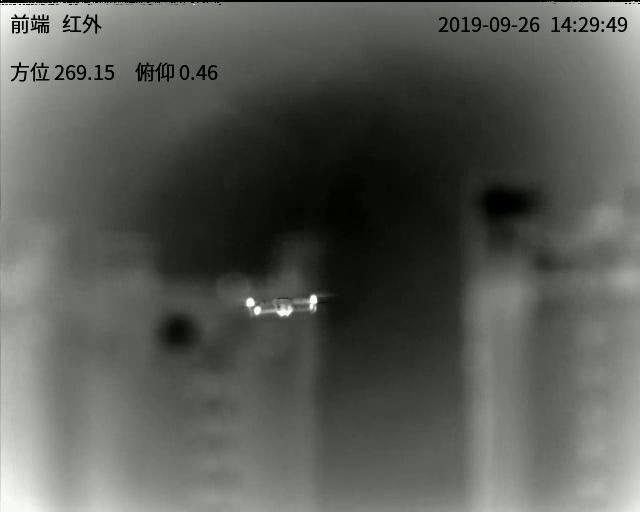DRONE: (245, 293, 320, 319)
